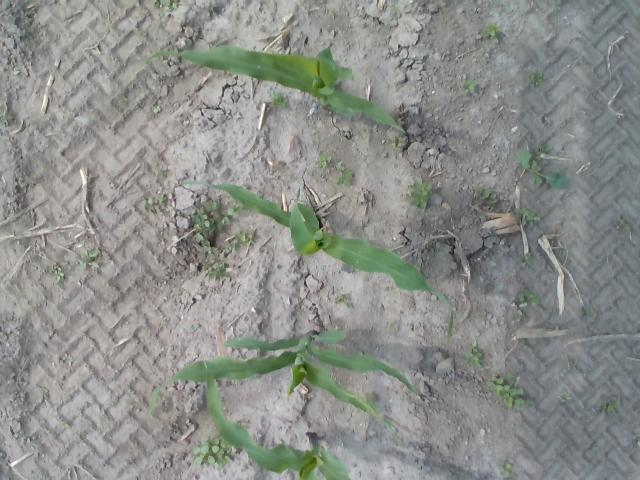Maize: (176, 178, 457, 342), (146, 328, 419, 448), (126, 43, 407, 134), (202, 359, 355, 480)
Weeds: (514, 145, 568, 191), (486, 372, 534, 410), (191, 200, 229, 243), (193, 436, 234, 468), (401, 178, 434, 210), (223, 231, 256, 255), (463, 340, 485, 369), (514, 207, 540, 228), (201, 260, 228, 280), (481, 20, 502, 44), (78, 248, 100, 270), (334, 162, 353, 186), (475, 188, 500, 206), (142, 194, 164, 214), (270, 88, 290, 110), (516, 289, 540, 307), (601, 397, 620, 417), (356, 393, 374, 414), (528, 69, 548, 87), (334, 292, 354, 309), (497, 459, 512, 479), (48, 265, 66, 281), (152, 0, 178, 11), (616, 213, 632, 230), (202, 243, 222, 256), (316, 152, 332, 168), (0, 101, 11, 123), (462, 79, 478, 94), (517, 254, 534, 266), (227, 205, 244, 216), (557, 390, 572, 402), (232, 418, 246, 430), (390, 136, 404, 146), (116, 95, 128, 104), (152, 104, 162, 114), (188, 324, 200, 332), (137, 30, 148, 36), (517, 310, 526, 317)
